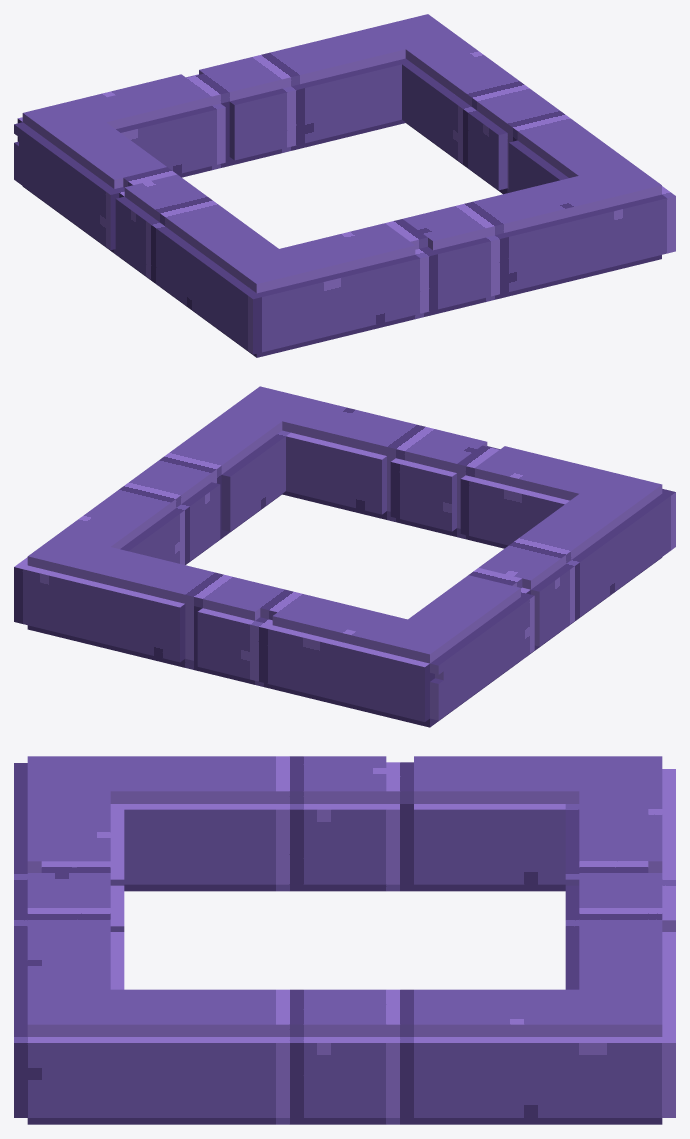
Rendered from lesser_gateao.fezao.glb.
3 views of the same model, one above another, from view 1: azimuth 30°, elevation 25°; view 2: azimuth 150°, elevation 25°; view 3: azimuth 270°, elevation 25° (orthographic). The views are drawn at different scales.
Parts seen in each view (by area): view 1: LESSER_GATEAO; view 2: LESSER_GATEAO; view 3: LESSER_GATEAO.
Part boxes in pixels (<box>): LESSER_GATEAO: <box>14,14,675,357</box>; LESSER_GATEAO: <box>14,386,675,727</box>; LESSER_GATEAO: <box>14,756,675,1124</box>.
Bounding box in the file's own units: 3 × 0.5 × 3.
1 material, 1 textured.
